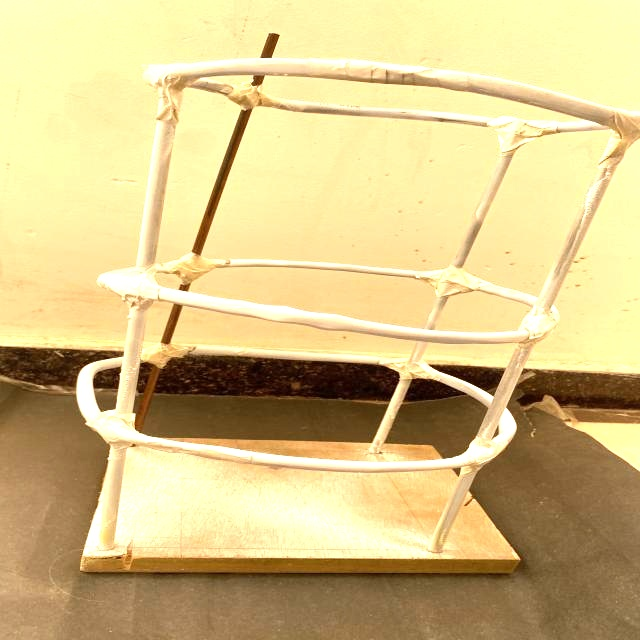silo: (82, 35, 640, 571)
